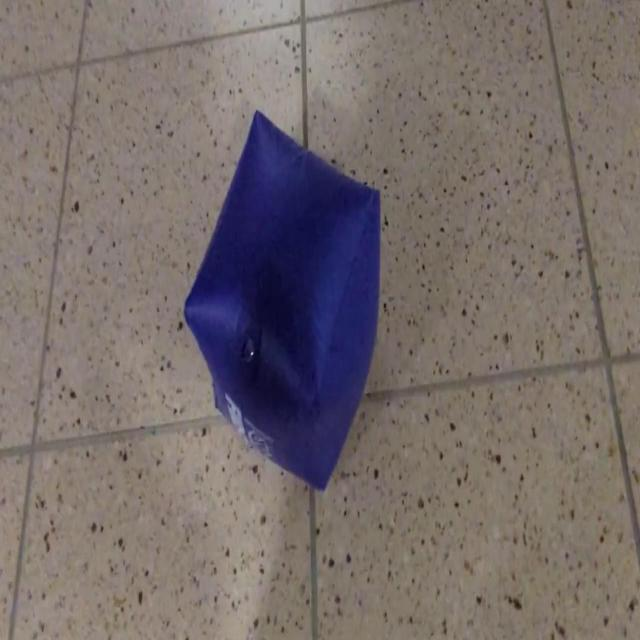frc_cube: (181, 110, 381, 489)
